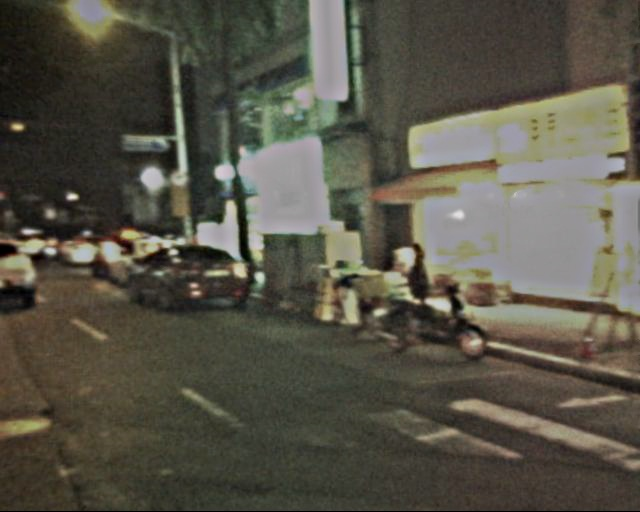person: (387, 242, 432, 326)
